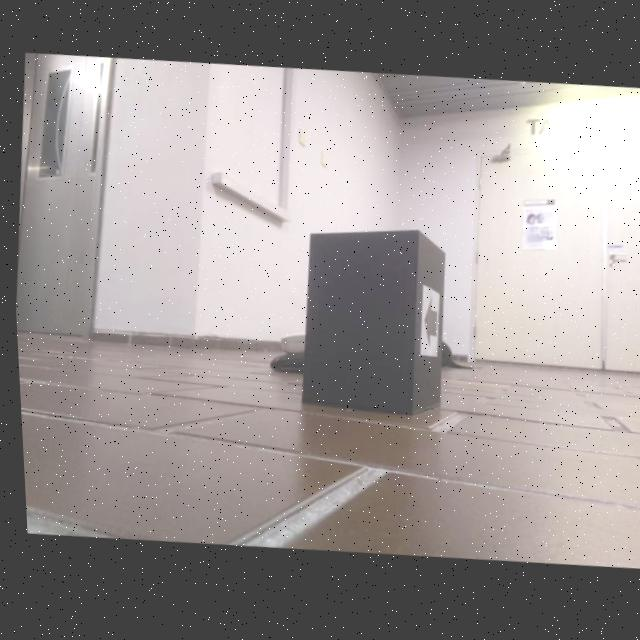LEFT: (420, 298, 433, 350)
